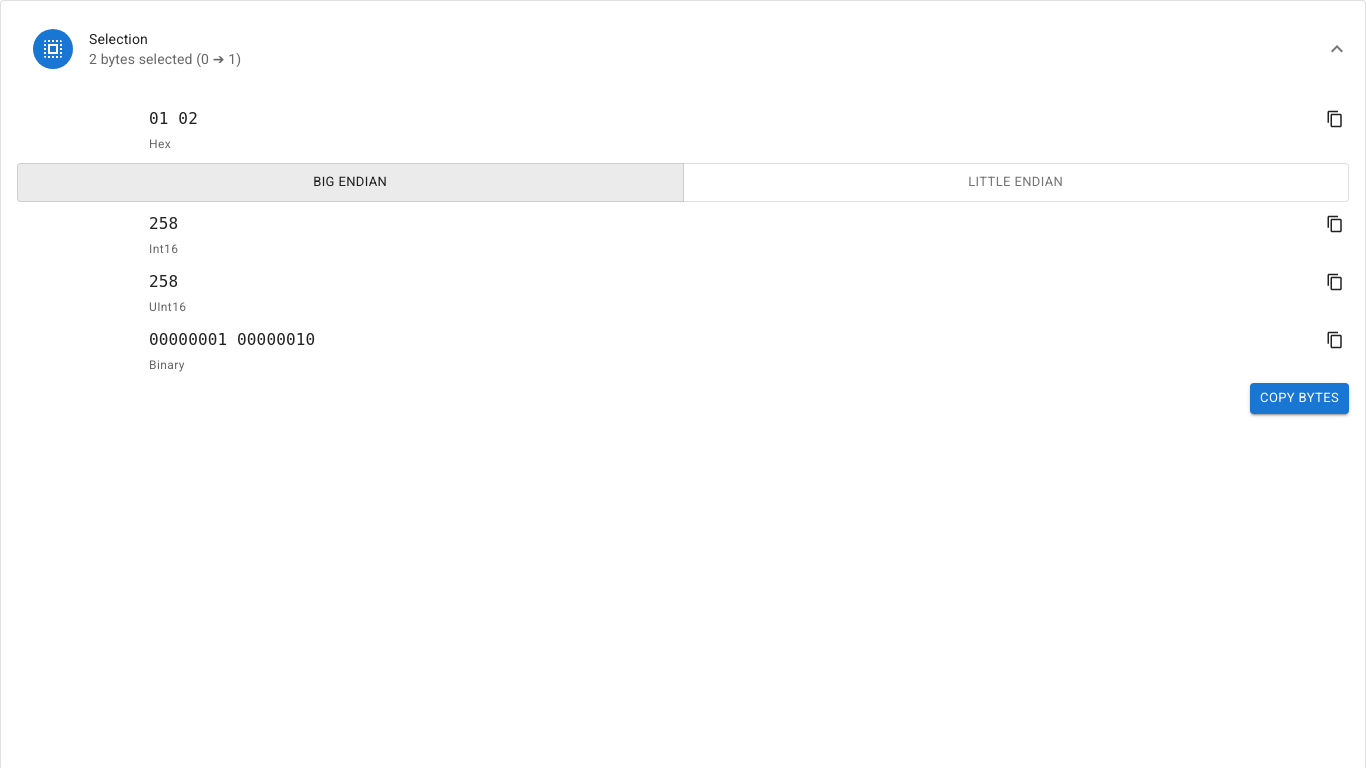
Test: SelectionView › must display correct little-endian values for selection 0 to 1
The image size is (1366, 768).
Step 1. Click the button "Little endian" → [1016, 182], box [682,163,1349,202]
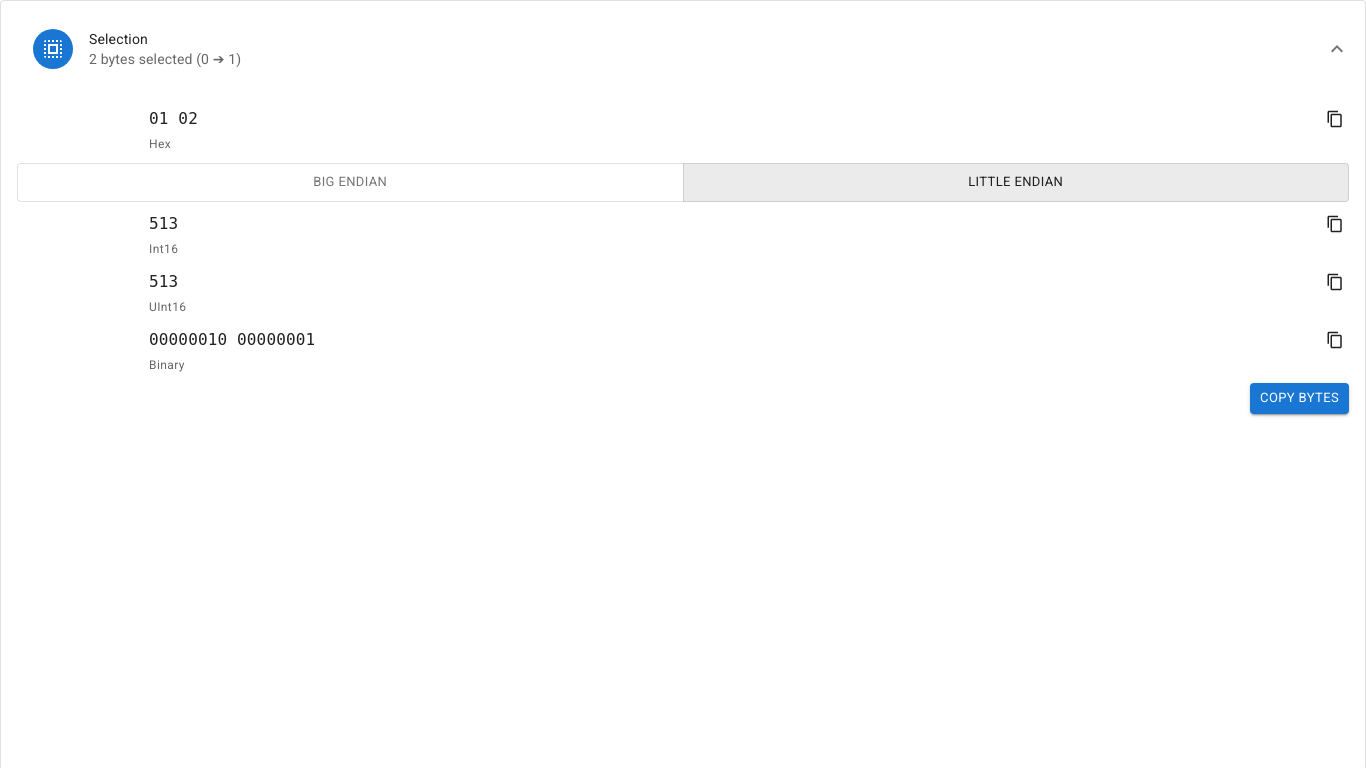
Expected: the heading with test id "Binary-value" reads "00000010 00000001", [149,330,315,348]
